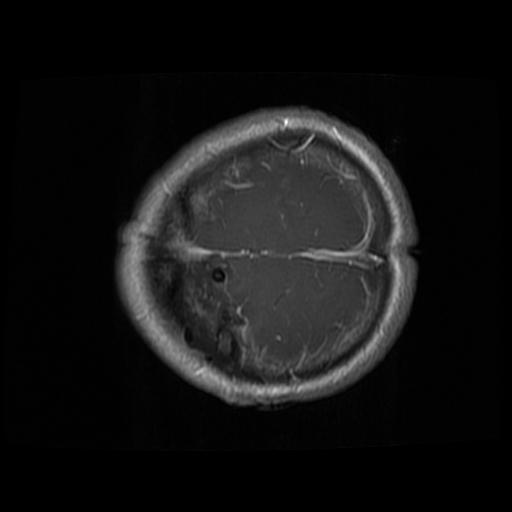glioma: (148, 183, 242, 370)
